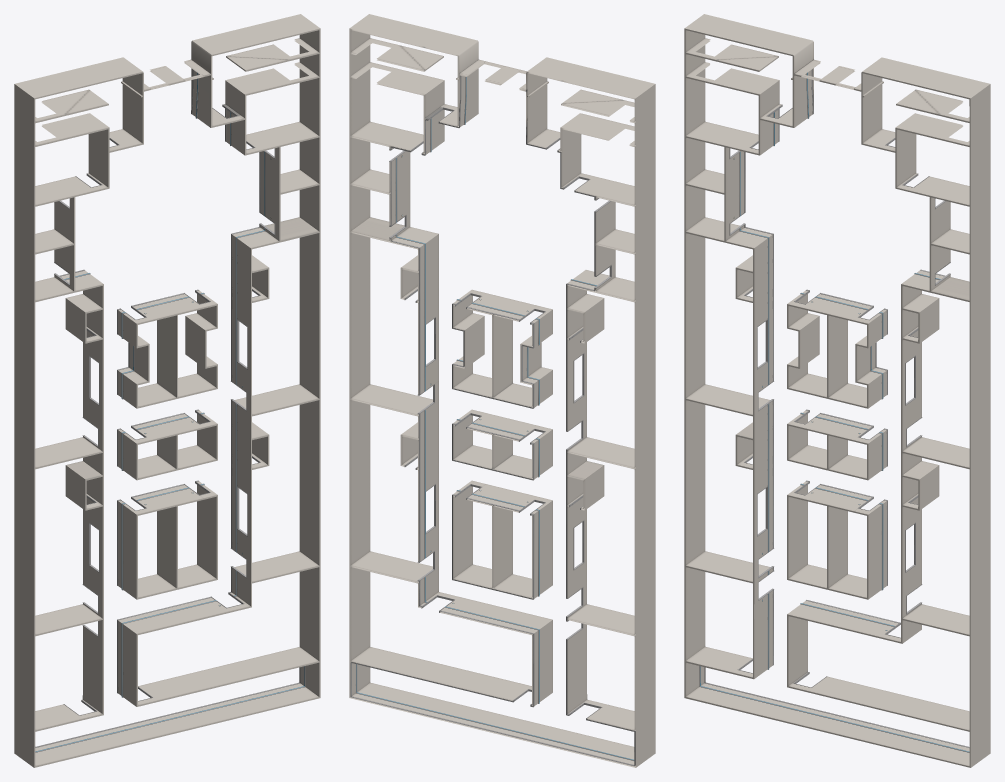
The picture shows the model from 3 angles, left to right: view 1: azimuth 30°, elevation 25°; view 2: azimuth 150°, elevation 25°; view 3: azimuth 330°, elevation 25°; orthographic projection.
Visible parts, largest first — view 1: node_0, node_4, node_5, node_2, node_1, node_3; view 2: node_0, node_5, node_4, node_2, node_1, node_3; view 3: node_0, node_4, node_5, node_2, node_1, node_3.
Boxes of the visible parts, left/top/right/bottom form: node_0: left=14, top=14, right=320, bottom=767; node_4: left=35, top=72, right=305, bottom=752; node_5: left=35, top=69, right=300, bottom=747; node_2: left=54, top=104, right=275, bottom=510; node_1: left=89, top=319, right=247, bottom=572; node_3: left=64, top=381, right=246, bottom=715; node_0: left=349, top=14, right=655, bottom=767; node_5: left=350, top=75, right=635, bottom=766; node_4: left=356, top=77, right=634, bottom=760; node_2: left=389, top=107, right=611, bottom=515; node_1: left=425, top=317, right=584, bottom=569; node_3: left=417, top=384, right=601, bottom=720; node_0: left=684, top=14, right=990, bottom=767; node_4: left=699, top=72, right=969, bottom=752; node_5: left=704, top=69, right=969, bottom=747; node_2: left=729, top=104, right=950, bottom=510; node_1: left=757, top=319, right=915, bottom=572; node_3: left=738, top=381, right=922, bottom=687.
Bounding box in the file's own units: 25.12 × 56.12 × 3.
Materials: 7 (7 with a texture image).
